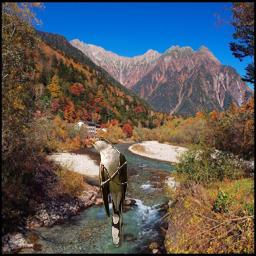Cuckoo: (87, 137, 128, 248)
